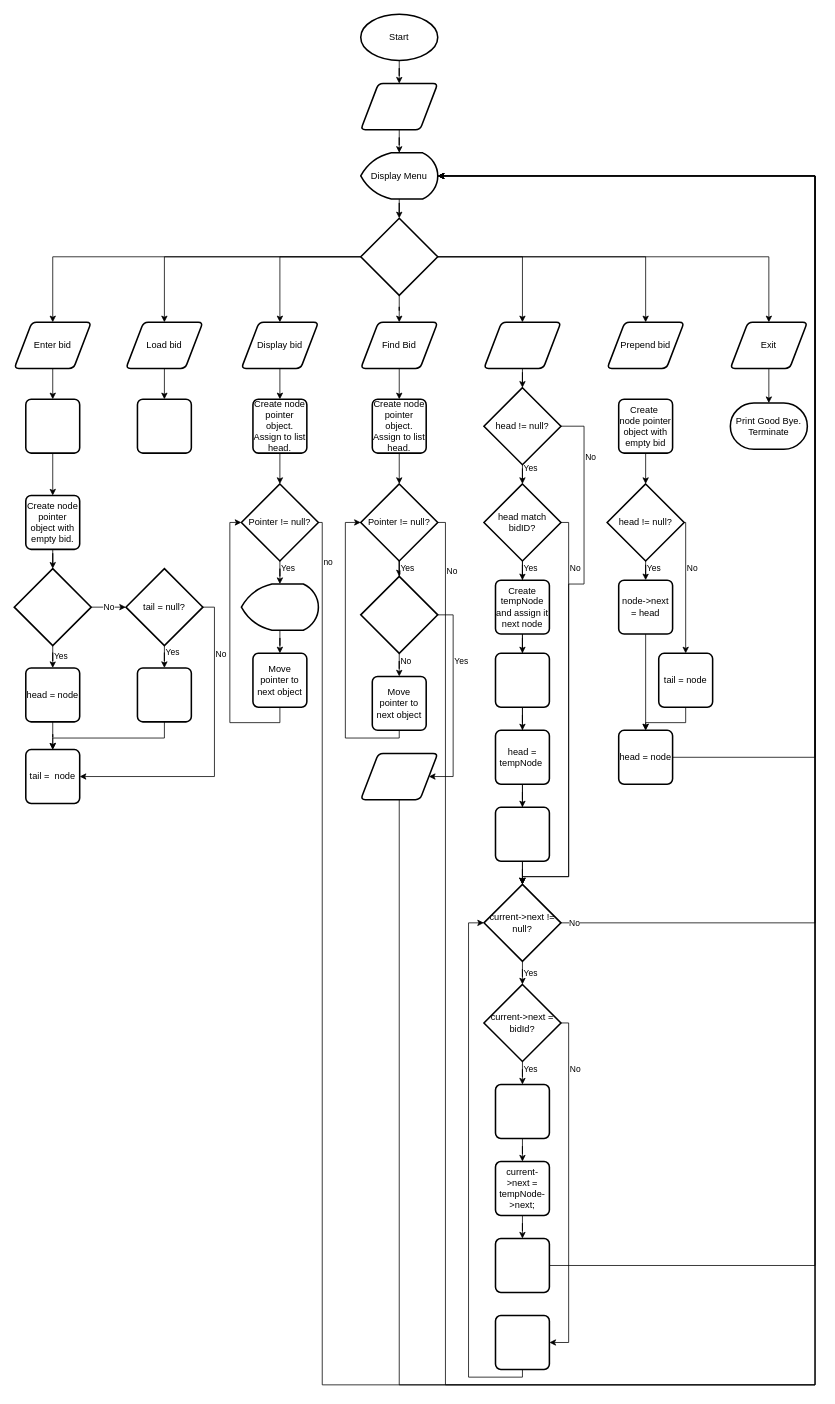
This 835x1404 diagram has some shape labels left out. Each missing label, with the centre of its shape:
"Bid info to console" belongs at point 279,607.
"current = current->next" belongs at point 522,1342.
"Delete head node" belongs at point 522,680.
"delete tempNode" belongs at point 522,1265.
"getBid()" belongs at point 52,426.
"head = null?" belongs at point 52,606.
"Initialize variables and objects" belongs at point 399,106.
"loadBids()" belongs at point 164,426.
"Pointer = bidID?" belongs at point 399,614.
"Remove bid" belongs at point 522,345.
"Return and print bid" belongs at point 399,776.
"tail->next = node" belongs at point 164,694.
"tempNode = current->next" belongs at point 522,1111.
"User enters option" belongs at point 399,256.
"variable current = head" belongs at point 522,834.
